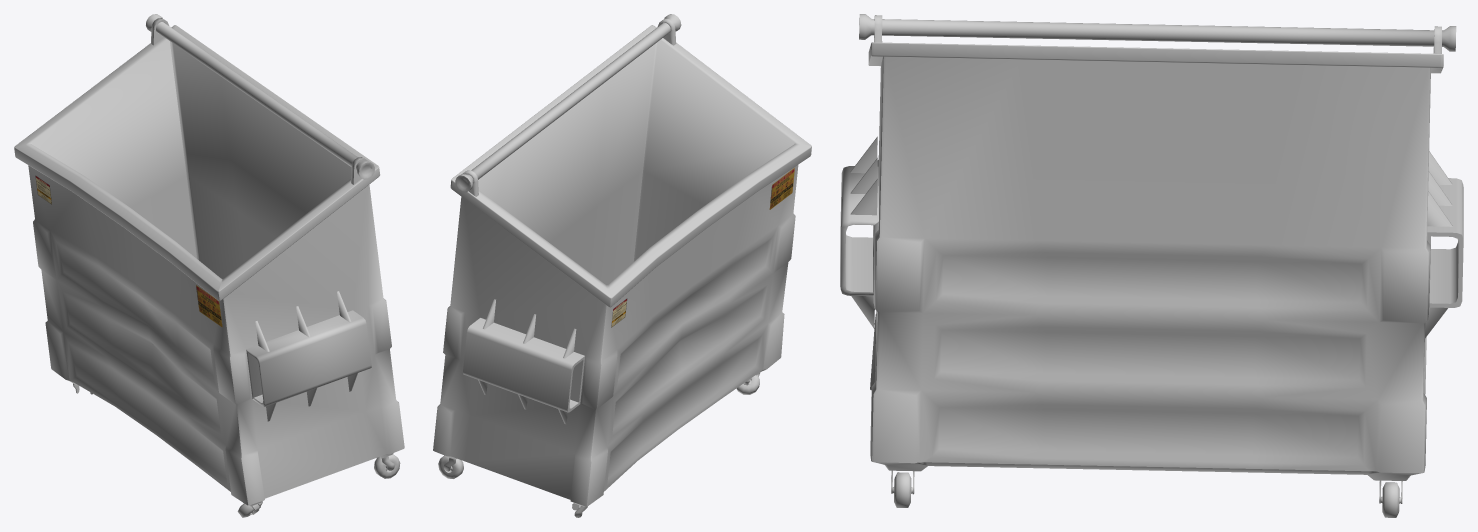
The model's file is Dumpster_A_Damaged.FBX.
The picture shows the model from 3 angles, left to right: view 1: azimuth 30°, elevation 25°; view 2: azimuth 150°, elevation 25°; view 3: azimuth 270°, elevation 25°; orthographic projection. The views are drawn at different scales.
Parts seen in each view (by area): view 1: Dumpster_A_Damaged; view 2: Dumpster_A_Damaged; view 3: Dumpster_A_Damaged.
Part boxes in pixels (x1=…): Dumpster_A_Damaged: x1=14, y1=14, x2=404, y2=517; Dumpster_A_Damaged: x1=433, y1=14, x2=811, y2=517; Dumpster_A_Damaged: x1=840, y1=14, x2=1463, y2=517.
Size of the model in its own units: 128 by 222 by 257.
